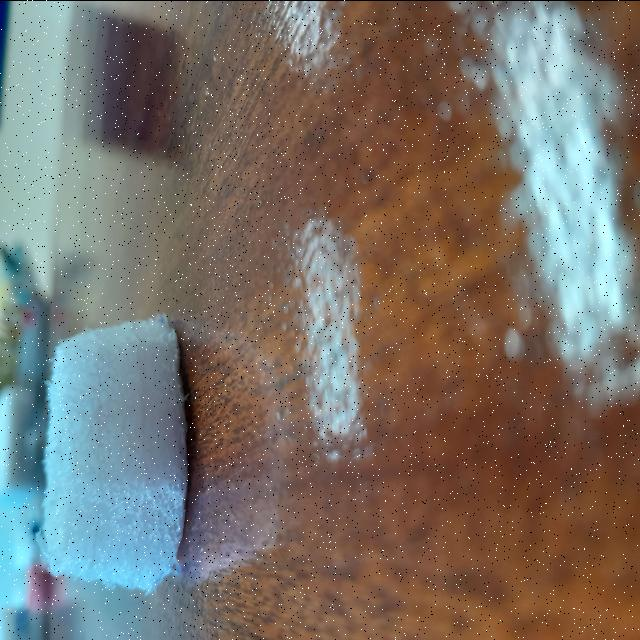wheel: (36, 286, 189, 602)
